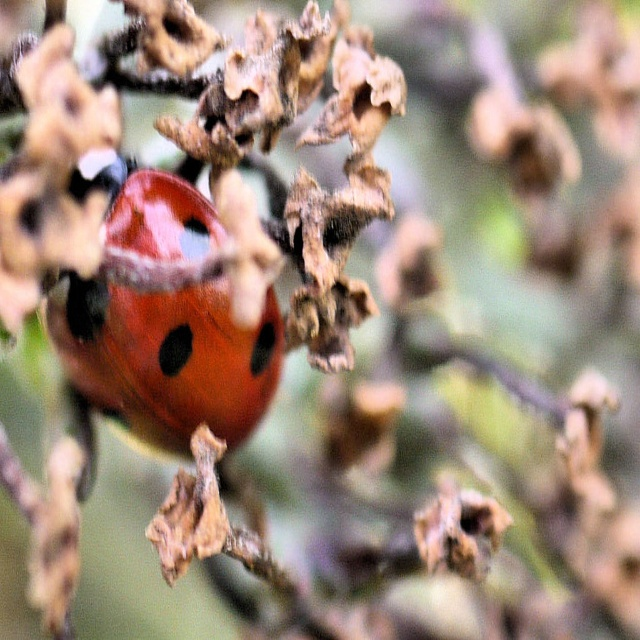Ladybug: (41, 147, 293, 474)
